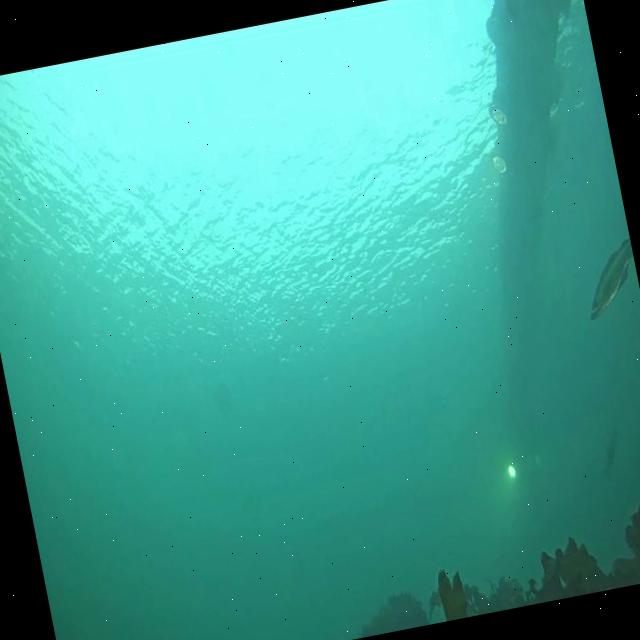fish: (578, 235, 640, 325), (594, 424, 626, 479)
